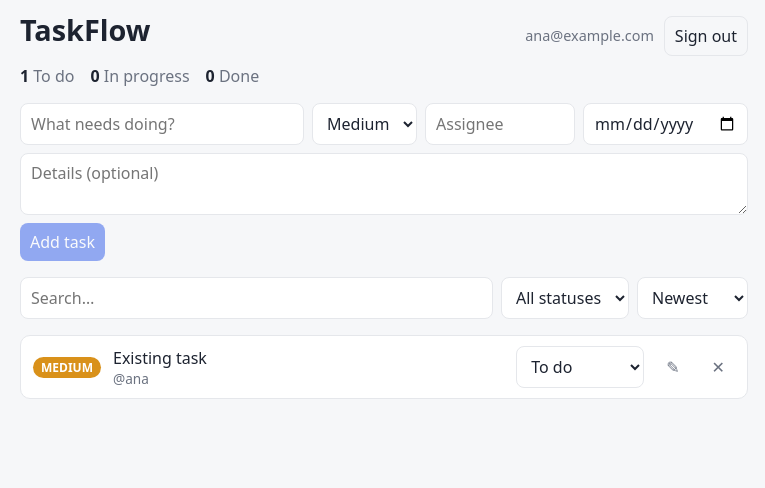
Test case: tasks › keeps what was typed when saving a new task fails
Expected: the text "Existing task" is shown, [113,346,207,368]
Type "Don't lose me" into the field named "Task title" at [162, 124], box [20,103,304,145]
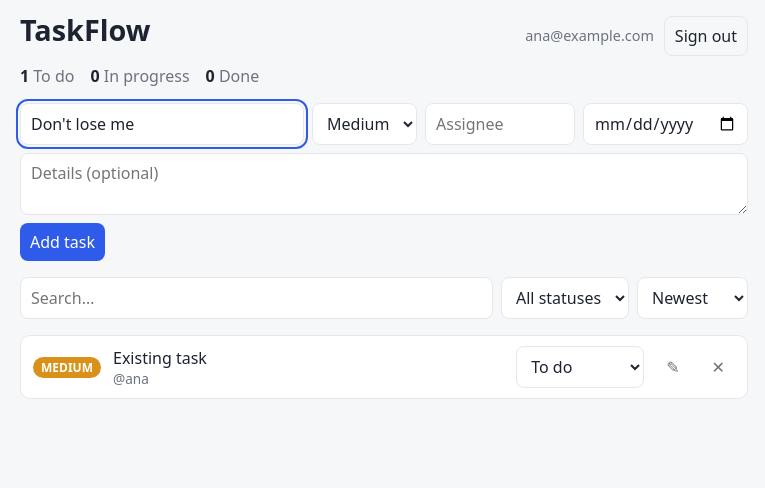
Select "High" in the dropdown named "Priority" at [364, 124], box [312,103,417,145]
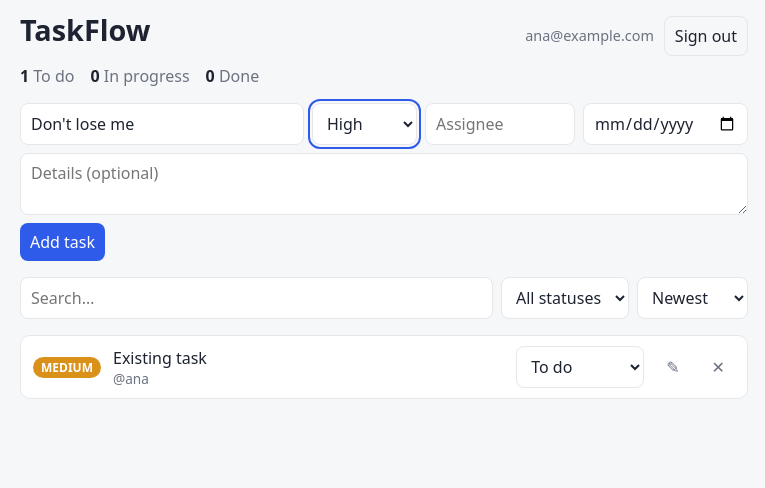
Click the button "Add task" at [62, 242], box [20,223,105,261]
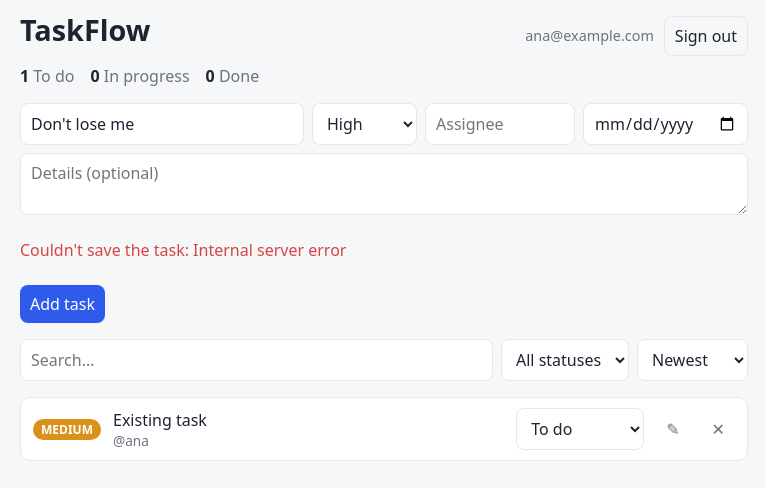
Now the message reads "Couldn't save the task: Internal server error", box [20,239,346,261]
Note: Retrying the same input works.
Click the button "Add task" at [62, 304], box [20,285,105,323]
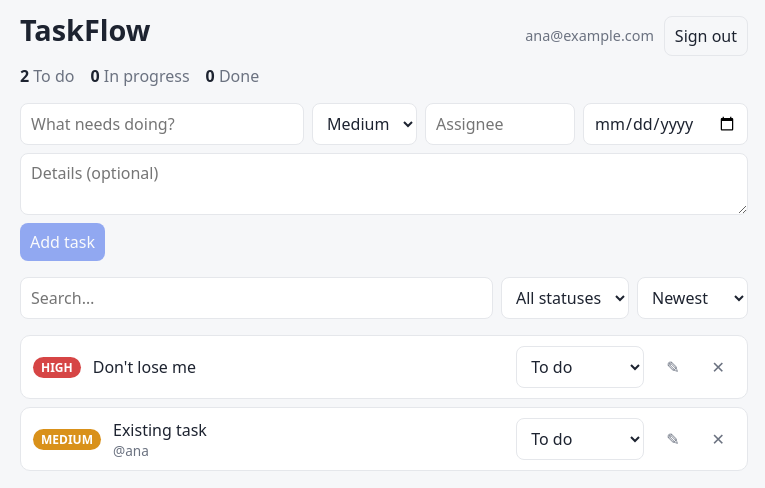
Now the text "Don't lose me" is shown, box [93,356,196,378]
